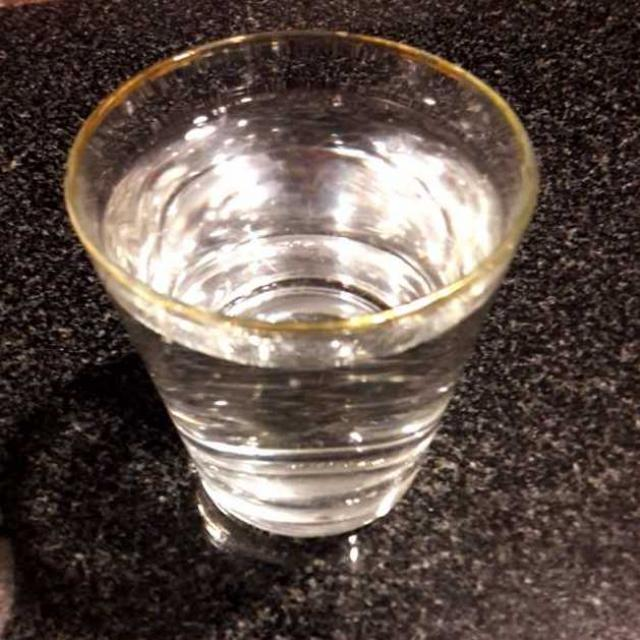water: (66, 28, 540, 535)
